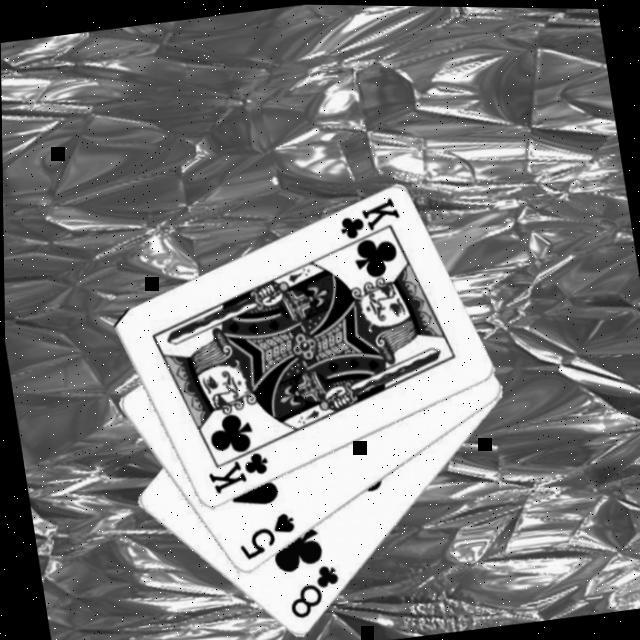5S: (232, 506, 302, 562)
8C: (280, 556, 348, 622)
KC: (332, 190, 408, 251), (202, 435, 276, 496)
